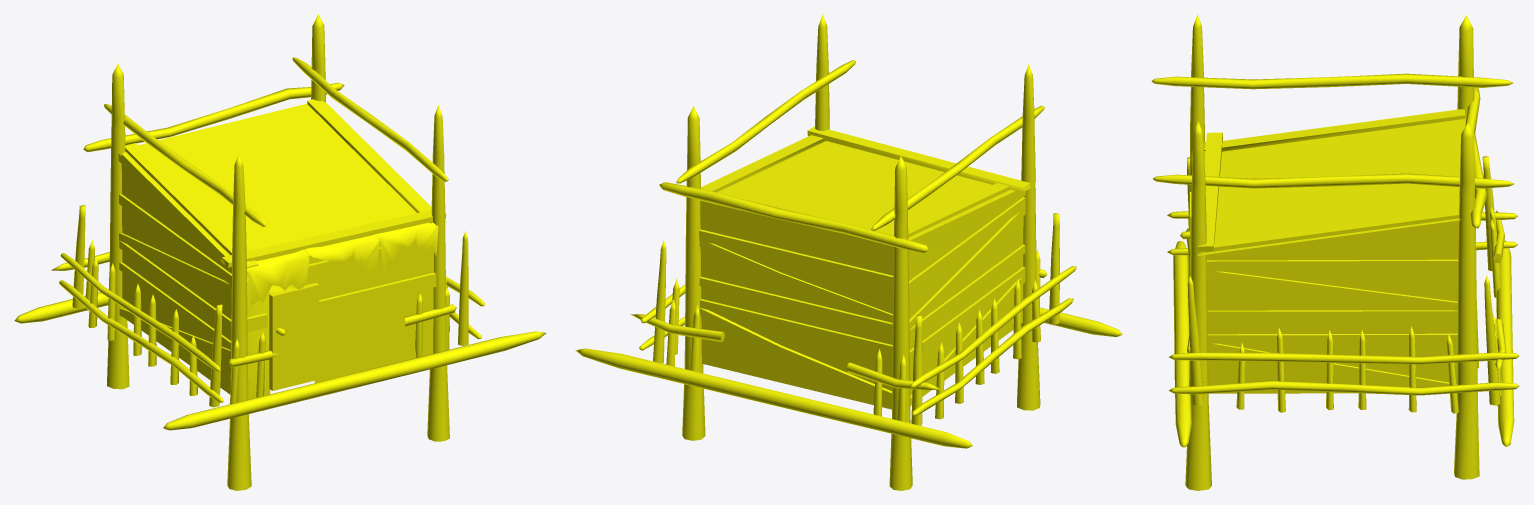
The model's file is gaint_builda_03.glb.
The picture shows the model from 3 angles, left to right: view 1: azimuth 30°, elevation 25°; view 2: azimuth 150°, elevation 25°; view 3: azimuth 270°, elevation 25°; orthographic projection. The views are drawn at different scales.
Visible parts, largest first — view 1: Object07, Object03; view 2: Object07, Object03; view 3: Object07, Object03.
Boxes of the visible parts, bbox=[...] form: Object07: bbox=[118, 99, 446, 399]; Object03: bbox=[14, 14, 546, 490]; Object07: bbox=[699, 126, 1030, 409]; Object03: bbox=[575, 14, 1122, 490]; Object07: bbox=[1189, 109, 1465, 393]; Object03: bbox=[1151, 14, 1519, 490].
Bounding box in the file's own units: 13.34 × 10.96 × 10.04.
Materials: 2 (2 with a texture image).
